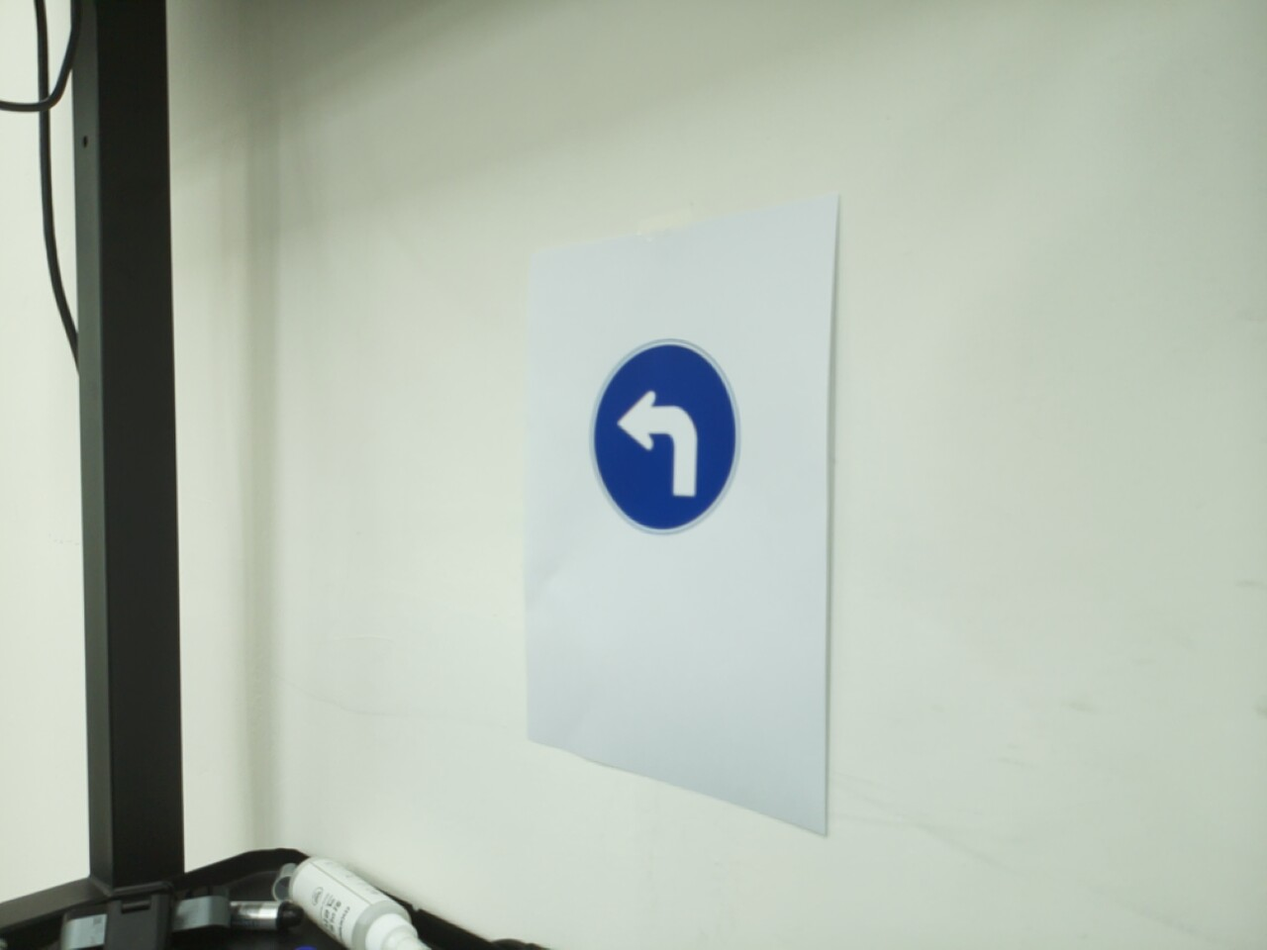left_turn: (587, 337, 742, 536)
